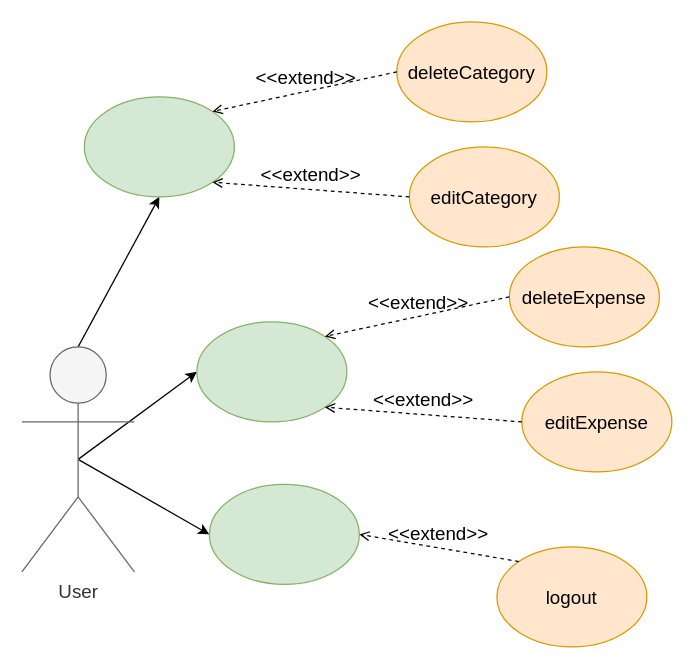
This 694x669 diagram has some shape labels left out. The centre of each missing label's shape, as x and y in pixels:
addCategory: (158,146)
addExpense: (271,371)
login: (283,533)
